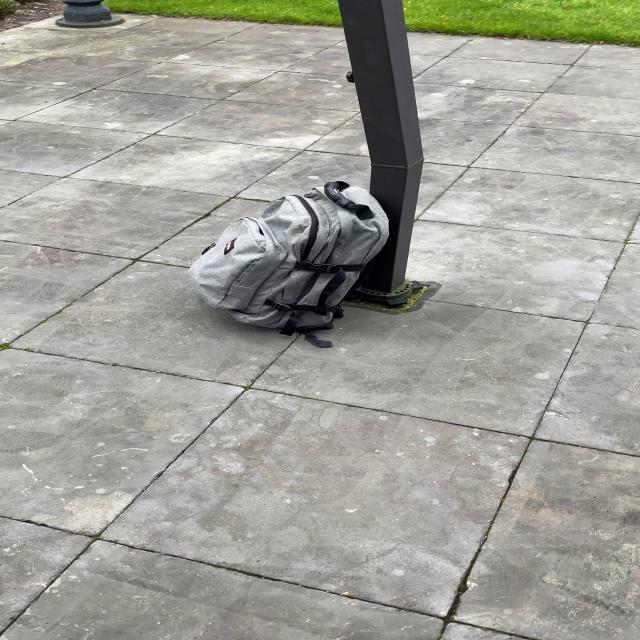backpack: (179, 176, 408, 338)
